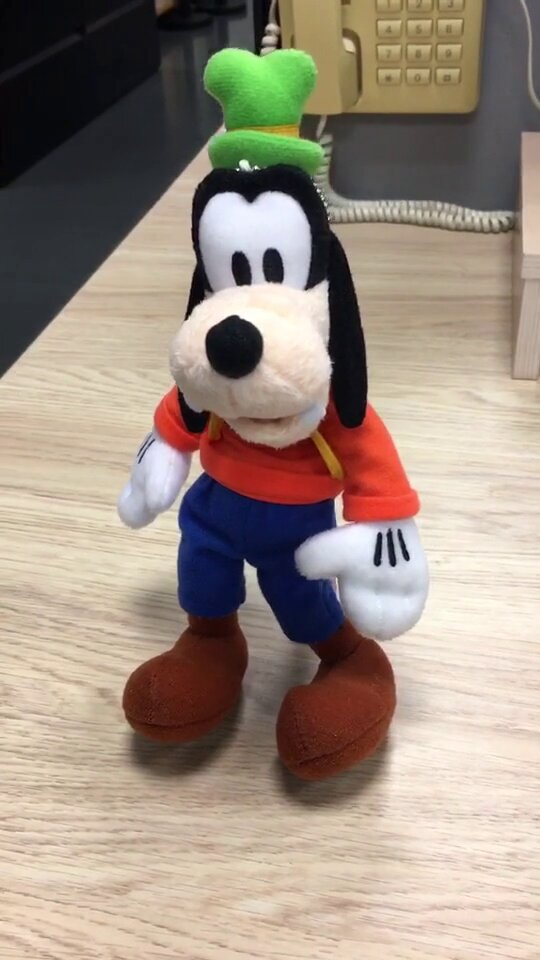goofy: (110, 44, 429, 780)
